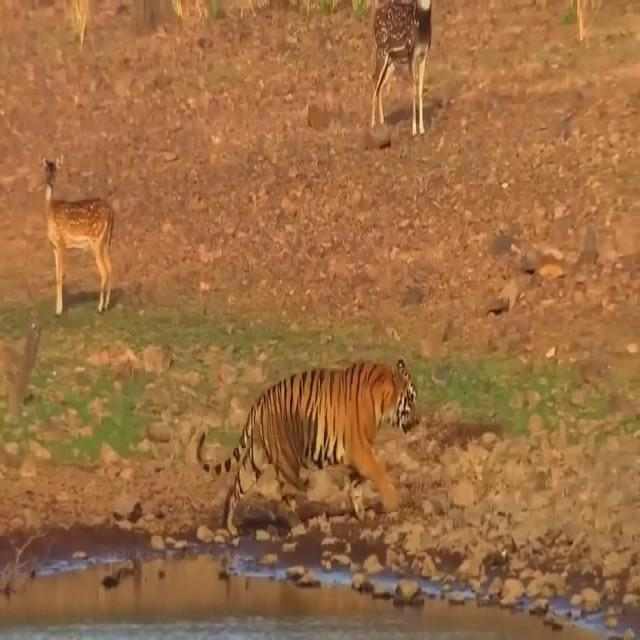tiger: (195, 355, 422, 545)
